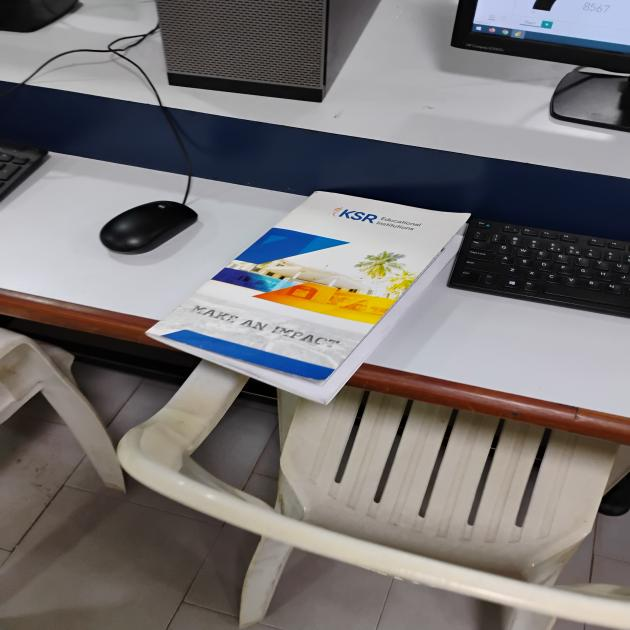keyboard: (467, 207, 630, 342)
mouse: (94, 178, 206, 262)
notebook: (140, 148, 536, 429)
